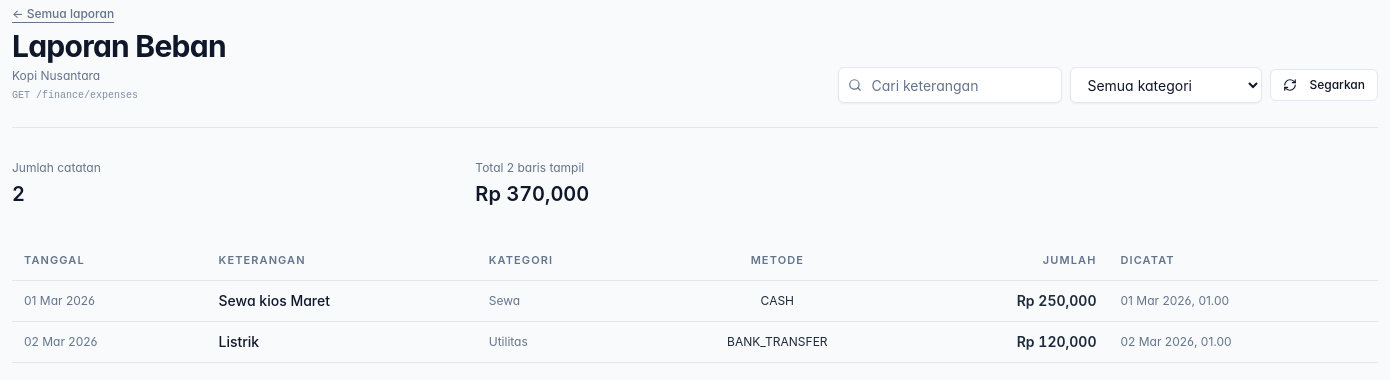
Test: Phase 7 — Reports workspace › expenses report › filters already-fetched rows by search term
This screenshot has width=1390, height=380.
Expected: the text "Sewa kios Maret" is shown, [206, 280, 477, 322]
Type "listrik" into the field named "Cari beban" at {"x": 950, "y": 85}, box [838, 67, 1062, 103]
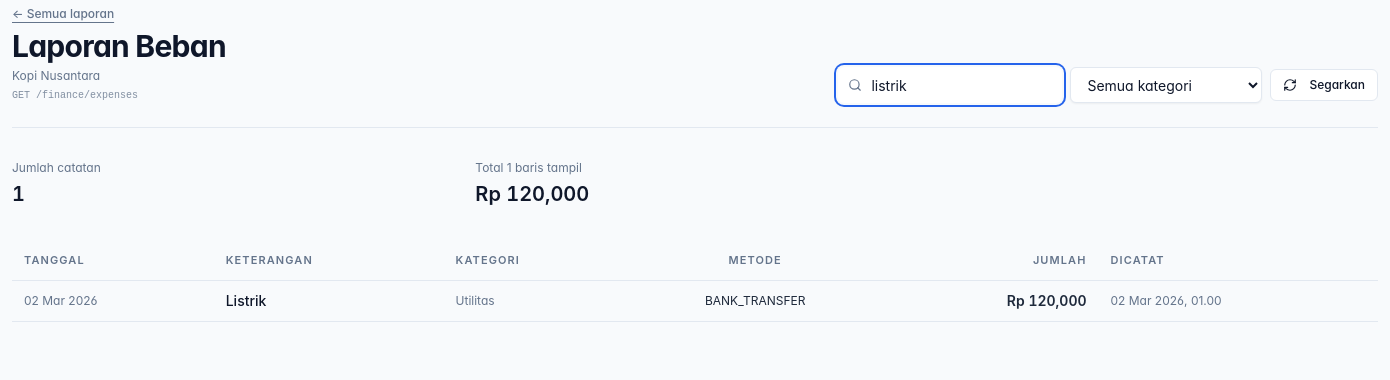
Expected: the text "Listrik" is shown, [214, 280, 444, 322]
Now the text "Sewa kios Maret" is gone
